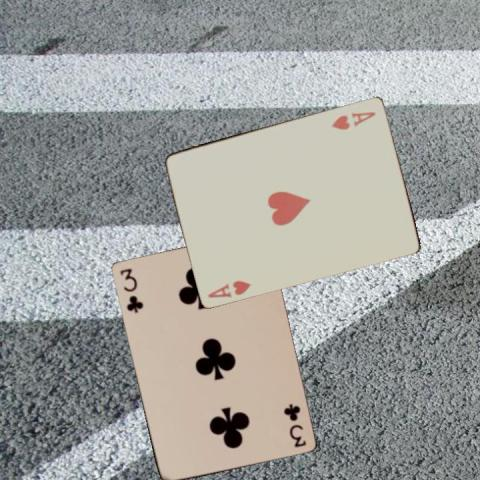3c: (116, 265, 144, 314), (282, 400, 308, 449)
Ah: (329, 108, 377, 131), (204, 277, 252, 299)
